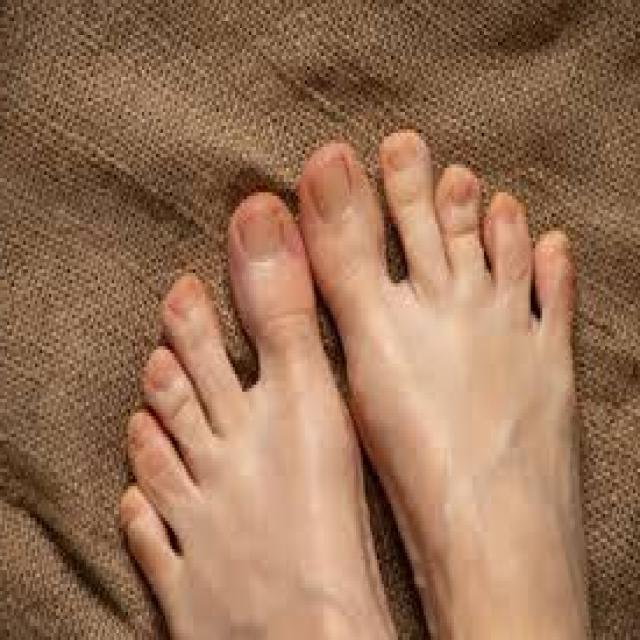No_Shoes: (304, 118, 616, 630), (112, 144, 386, 640)
